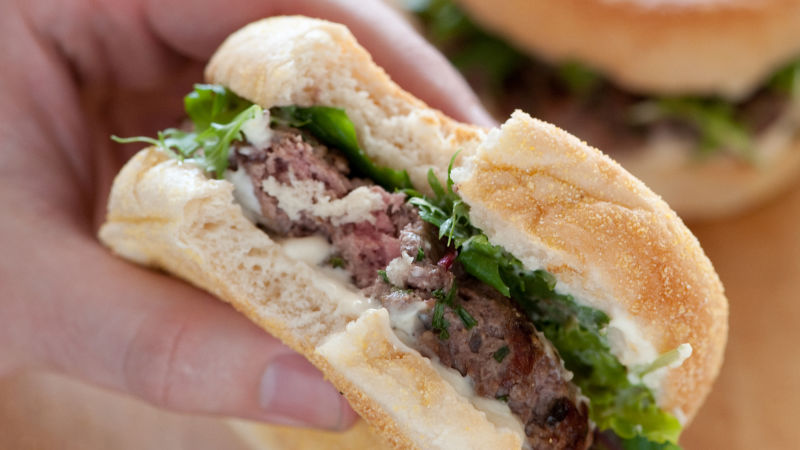hamburger_buns: (332, 104, 718, 450)
